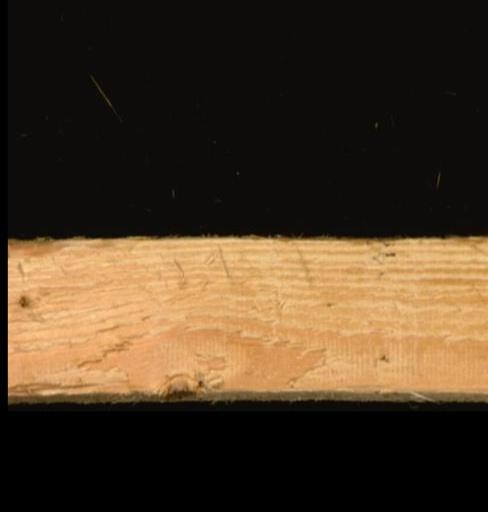edge_knot: (154, 364, 214, 398)
small_knot: (12, 286, 33, 312)
wave: (7, 373, 148, 401), (7, 236, 145, 256)
